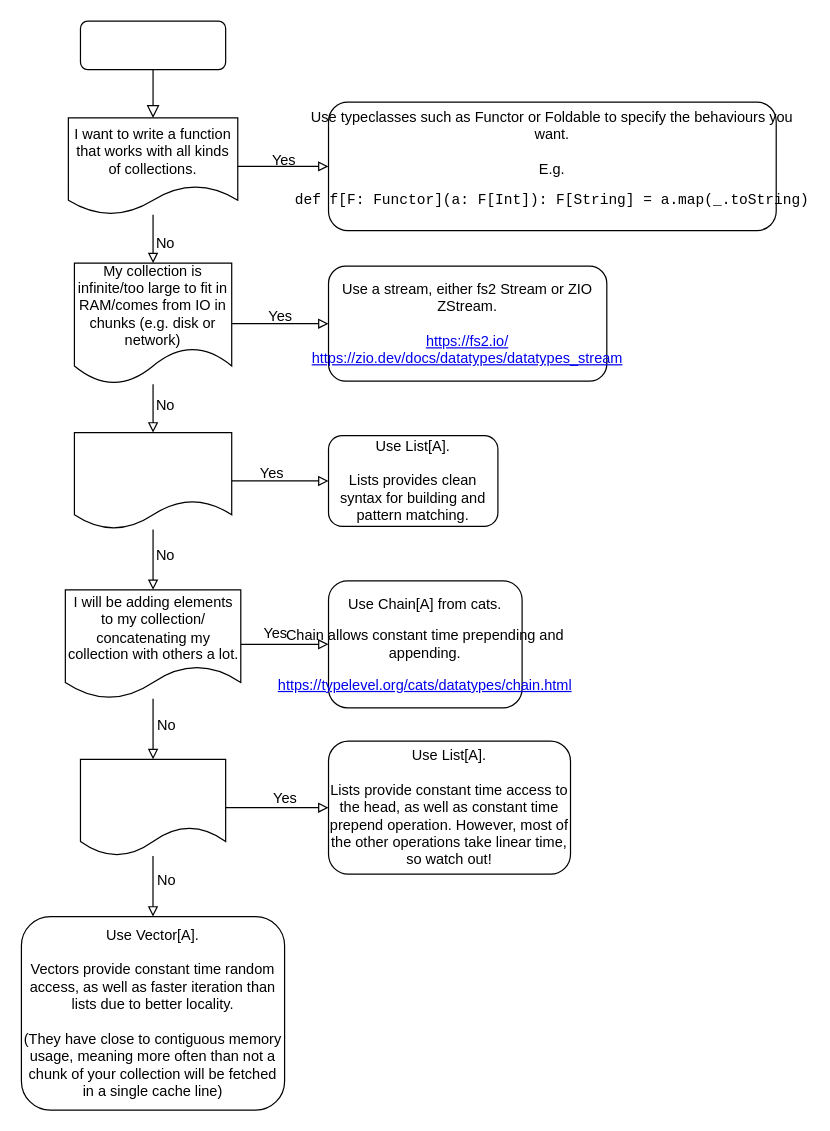
Some shapes in this 830 by 1131 pixel diagram are drawn without their labels. The box of each missing label's shape, as (x1, y1, x2, y2) in pixels:
I am prepending or accessing the first element a lot.: (79, 758, 226, 856)
My collection is quite small, and performance will likely never matter.: (73, 431, 232, 529)
What collection type should I use?: (79, 20, 226, 70)
